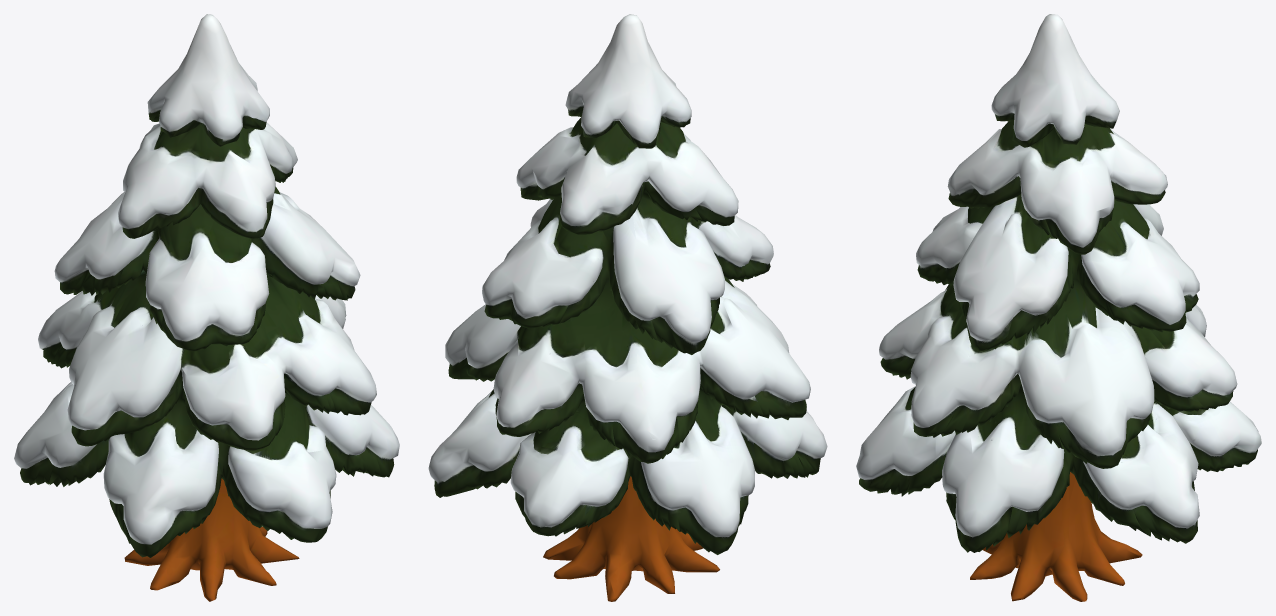
The model's file is pine_snow_c.glb.
The picture shows the model from 3 angles, left to right: view 1: azimuth 30°, elevation 25°; view 2: azimuth 150°, elevation 25°; view 3: azimuth 270°, elevation 25°; orthographic projection.
Parts seen in each view (by area): view 1: tripo_node_cacfad4b-0d88-4f2a-af9f-743c8062c75e; view 2: tripo_node_cacfad4b-0d88-4f2a-af9f-743c8062c75e; view 3: tripo_node_cacfad4b-0d88-4f2a-af9f-743c8062c75e.
Boxes of the visible parts, x1,y1,x2,y2 form: tripo_node_cacfad4b-0d88-4f2a-af9f-743c8062c75e: (14, 14, 399, 601); tripo_node_cacfad4b-0d88-4f2a-af9f-743c8062c75e: (428, 14, 827, 601); tripo_node_cacfad4b-0d88-4f2a-af9f-743c8062c75e: (856, 14, 1261, 601).
Bounding box in the file's own units: 3.02 × 5 × 3.32.
1 material, 1 textured.
